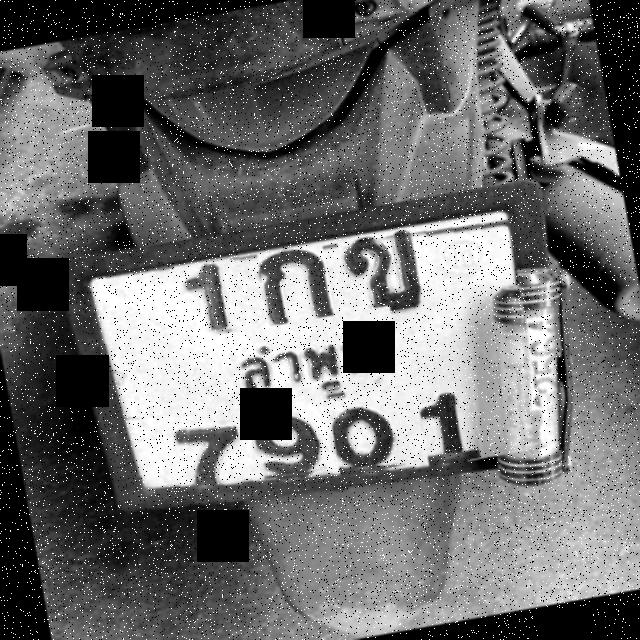letters: (337, 228, 436, 308), (161, 409, 244, 501), (326, 387, 409, 476), (248, 396, 328, 480), (256, 238, 333, 320), (416, 379, 482, 466), (174, 256, 242, 336)
license-plate: (91, 222, 540, 490)
province: (200, 305, 404, 419)
